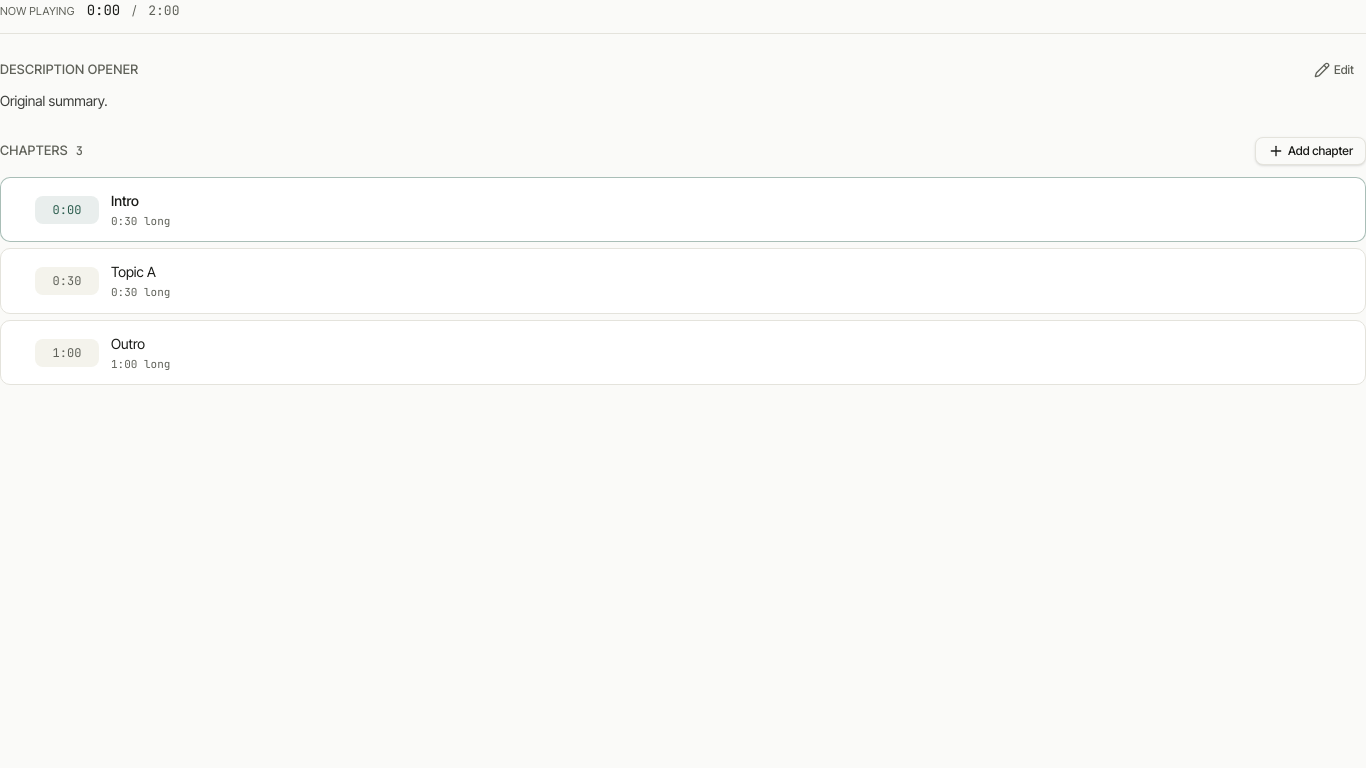
Test: ChaptersReview › adds a new chapter with startMs = last + 10s when Add is clicked
Click the button with test id "chapters-add": click(1310, 151) [1255,137,1365,165]
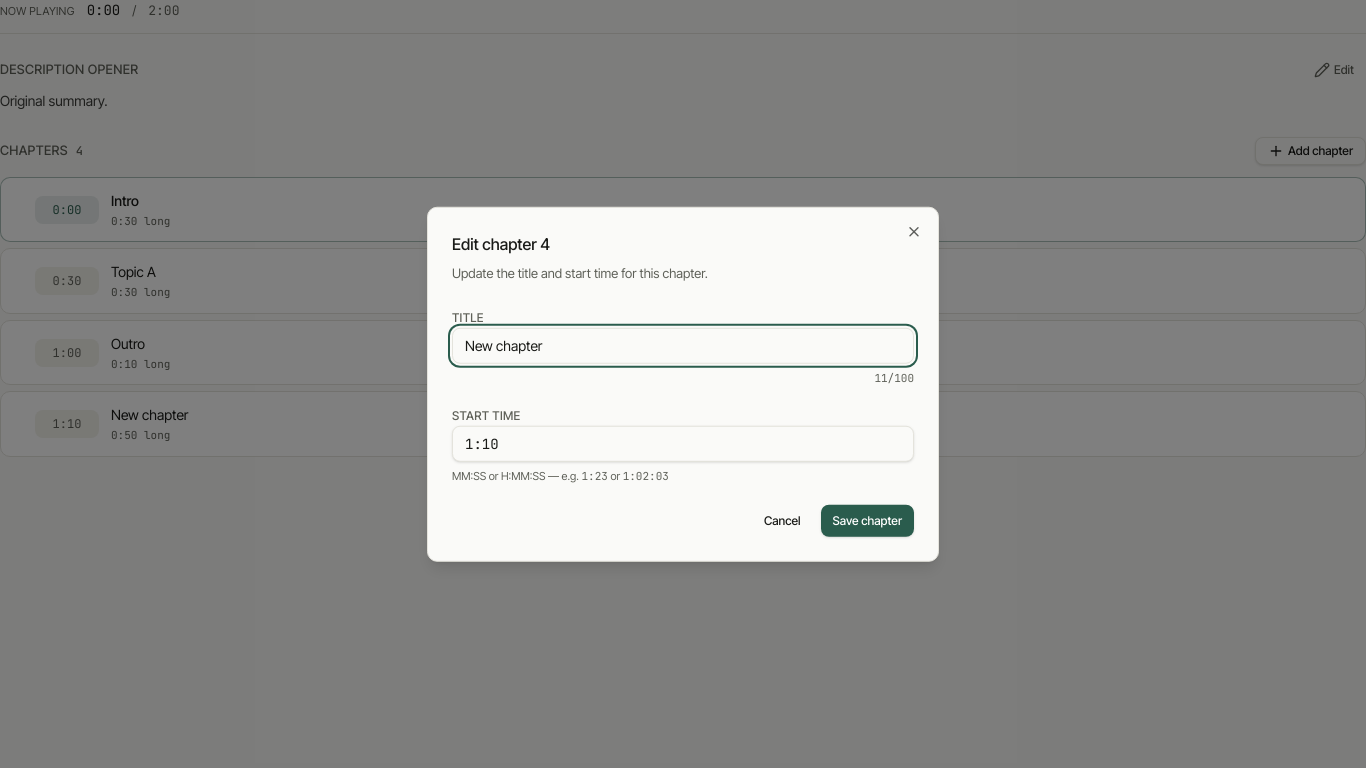
Expected: the text "4" is shown, [76,143,83,159]
Expected: the text "New chapter" is shown, [111,406,188,423]
